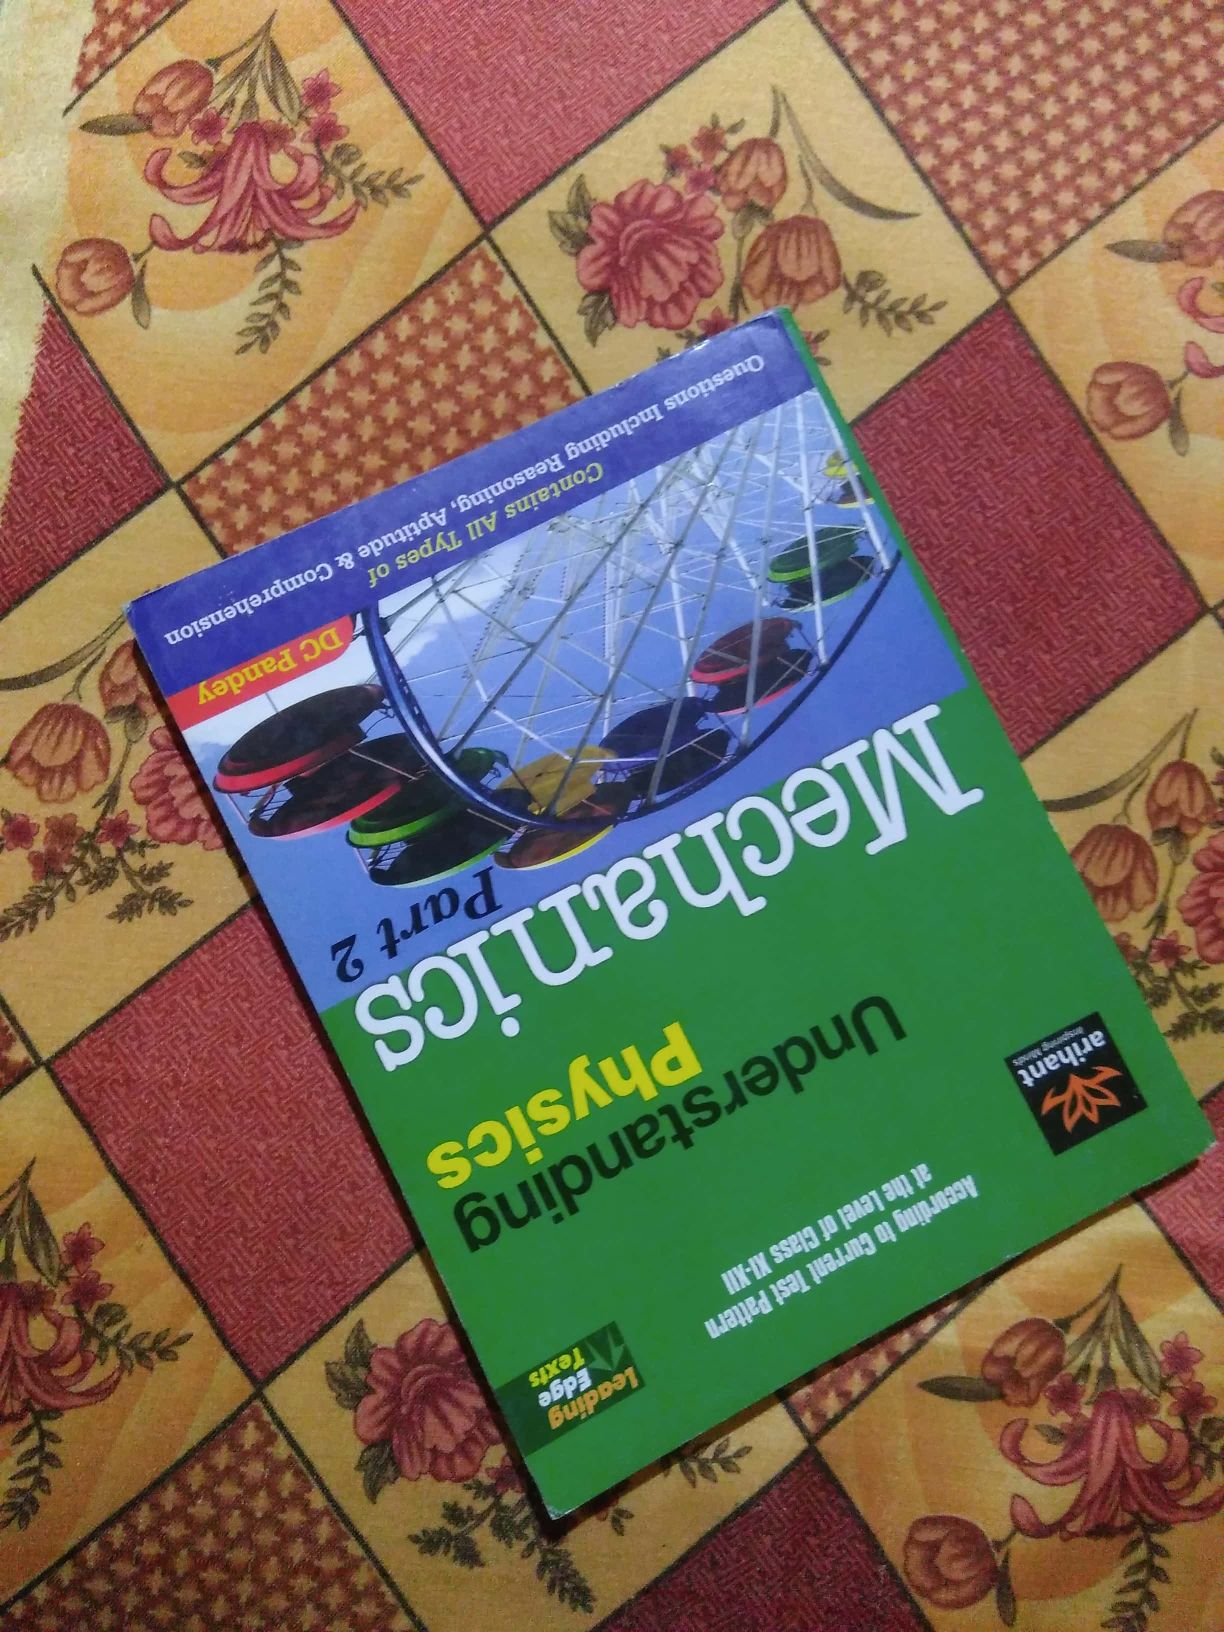mechanics: (136, 370, 1218, 1466)
